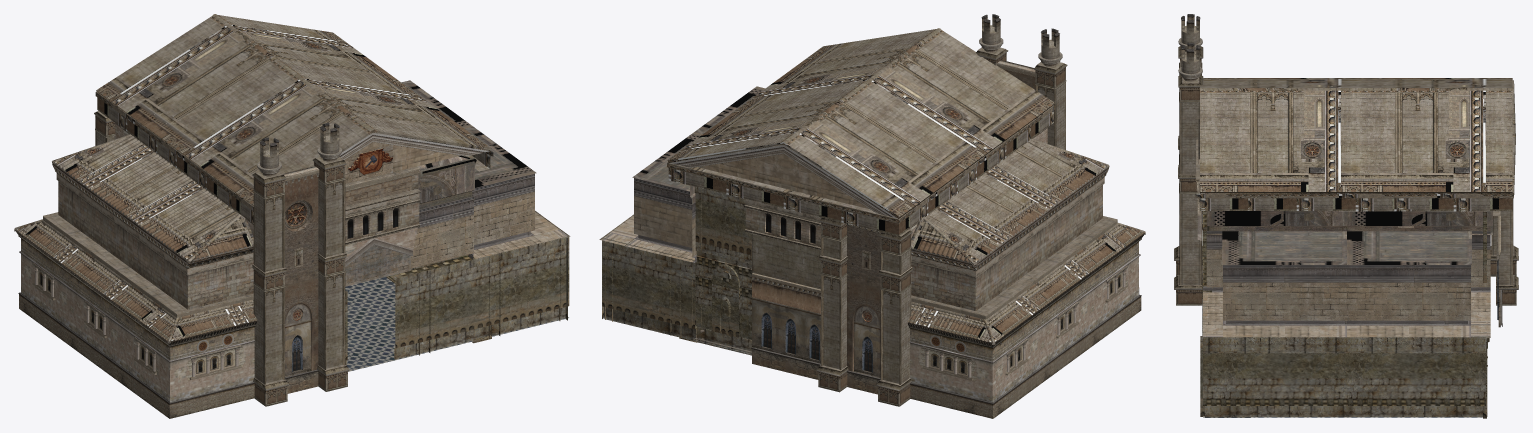
File: Tower2.fbx
3 views of the same model, side by side, from view 1: azimuth 30°, elevation 25°; view 2: azimuth 150°, elevation 25°; view 3: azimuth 270°, elevation 25° (orthographic).
Visible parts, largest first — view 1: LV_Spechia_City_BigAuctionHouse01_SM_LHJ; view 2: LV_Spechia_City_BigAuctionHouse01_SM_LHJ; view 3: LV_Spechia_City_BigAuctionHouse01_SM_LHJ.
Boxes of the visible parts, bbox=[...] form: LV_Spechia_City_BigAuctionHouse01_SM_LHJ: bbox=[14, 14, 570, 418]; LV_Spechia_City_BigAuctionHouse01_SM_LHJ: bbox=[599, 14, 1145, 418]; LV_Spechia_City_BigAuctionHouse01_SM_LHJ: bbox=[1174, 14, 1518, 418].
Bounding box in the file's own units: 10.82 × 6.58 × 8.05.
